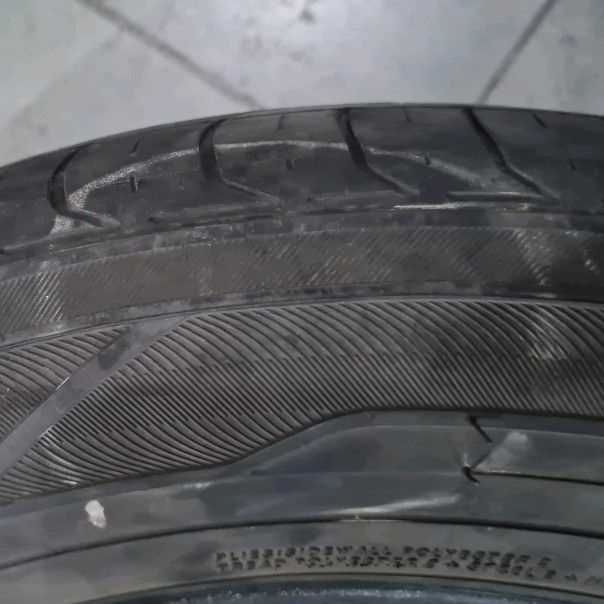CBU: (107, 208, 469, 420)
